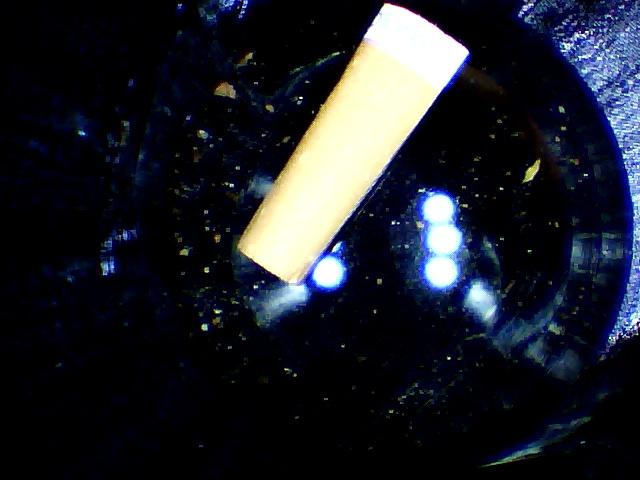megot: (229, 1, 496, 297)
